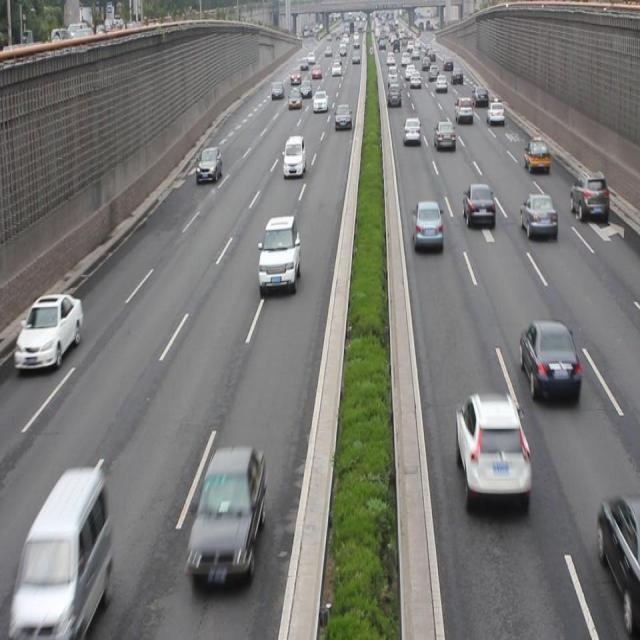car: (186, 446, 266, 584), (455, 391, 530, 499), (595, 494, 640, 619), (16, 290, 83, 370), (518, 316, 580, 400), (258, 213, 300, 291), (569, 167, 607, 222), (521, 191, 557, 239), (411, 198, 443, 250), (462, 179, 494, 229), (523, 136, 550, 175), (283, 134, 306, 178), (196, 144, 222, 182), (433, 118, 455, 150), (402, 114, 422, 144), (335, 103, 351, 126)
truck: (22, 466, 112, 640)
